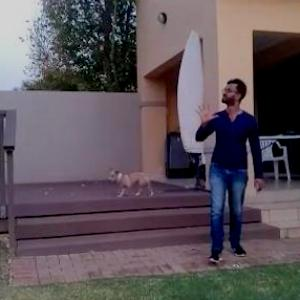follow_hand: (191, 97, 219, 127)
